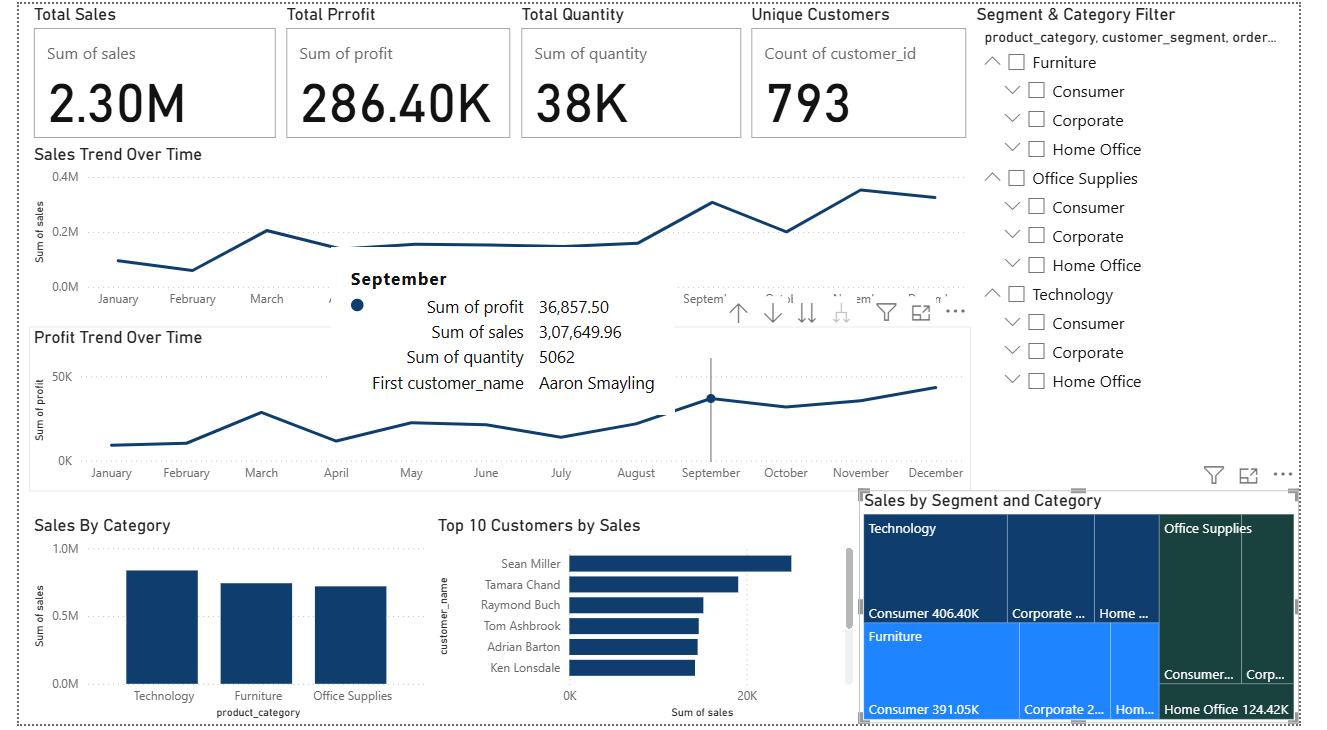

The dashboard page shown, as its layout file describes it:
{"tool":"powerbi","page":{"name":"Page 1","canvas":[1280,720],"ordinal":0},"visuals":[{"type":"cardVisual","title":"Total Sales","fields":{"Data":["Sum(public vw_sales_analysis.sales)"]},"box":[10,0,252.9,140],"z":0},{"type":"cardVisual","title":"Total Prrofit","fields":{"Data":["Sum(public vw_sales_analysis.profit)"]},"box":[262.9,0,234.3,140],"z":1000},{"type":"cardVisual","title":"Total Quantity","fields":{"Data":["Sum(public vw_sales_analysis.quantity)"]},"box":[497.1,0,230,140],"z":2000},{"type":"cardVisual","title":"Unique Customers","fields":{"Data":["Count(public vw_sales_analysis.customer_id)"]},"box":[727.1,0,225.7,140],"z":3000},{"type":"lineChart","title":"Sales Trend Over Time","fields":{"Y":["Sum(public vw_sales_analysis.sales)"],"Category":["public vw_sales_analysis.order_date.Variation.Date Hierarchy.Year","public vw_sales_analysis.order_date.Variation.Date Hierarchy.Quarter","public vw_sales_analysis.order_date.Variation.Date Hierarchy.Month","public vw_sales_analysis.order_date.Variation.Date Hierarchy.Day"]},"box":[10,140,942.9,182.9],"z":4000},{"type":"lineChart","title":"Profit Trend Over Time ","fields":{"Category":["public vw_sales_analysis.order_date.Variation.Date Hierarchy.Year","public vw_sales_analysis.order_date.Variation.Date Hierarchy.Quarter","public vw_sales_analysis.order_date.Variation.Date Hierarchy.Month","public vw_sales_analysis.order_date.Variation.Date Hierarchy.Day"],"Y":["Sum(public vw_sales_analysis.profit)"]},"box":[10,322.9,942.9,164.3],"z":5000},{"type":"clusteredColumnChart","title":"Sales By Category","fields":{"Y":["Sum(public vw_sales_analysis.sales)"],"Category":["public vw_sales_analysis.product_category"]},"box":[10,511.4,404.3,208.6],"z":6000},{"type":"barChart","title":"Top 10 Customers by Sales","fields":{"Category":["public vw_sales_analysis.customer_name"],"Y":["Sum(public vw_sales_analysis.sales)"]},"box":[414.3,511.4,425.7,208.6],"z":7000},{"type":"slicer","title":"Segment & Category Filter","fields":{"Values":["public vw_sales_analysis.product_category","public vw_sales_analysis.customer_segment","public vw_sales_analysis.order_quarter","public vw_sales_analysis.order_year"]},"box":[952.5,0,327.5,486.2],"z":8000},{"type":"treemap","title":"Sales by Segment and Category","fields":{"Group":["public vw_sales_analysis.product_category"],"Values":["Sum(public vw_sales_analysis.sales)"],"Details":["public vw_sales_analysis.customer_segment"]},"box":[840,485.7,440,234.3],"z":9000}]}

Visuals, with their boxes on the page's 1280x720 design canvas (x1, y1, x2, y2). These are canvas units, not pixel positions in the 1327x730 screenshot, which may show the page scaled, cropped or inside an application window:
"Total Sales" cardVisual: <box>10,0,263,140</box>
"Total Prrofit" cardVisual: <box>263,0,497,140</box>
"Total Quantity" cardVisual: <box>497,0,727,140</box>
"Unique Customers" cardVisual: <box>727,0,953,140</box>
"Sales Trend Over Time" lineChart: <box>10,140,953,323</box>
"Profit Trend Over Time " lineChart: <box>10,323,953,487</box>
"Sales By Category" clusteredColumnChart: <box>10,511,414,720</box>
"Top 10 Customers by Sales" barChart: <box>414,511,840,720</box>
"Segment & Category Filter" slicer: <box>952,0,1280,486</box>
"Sales by Segment and Category" treemap: <box>840,486,1280,720</box>
